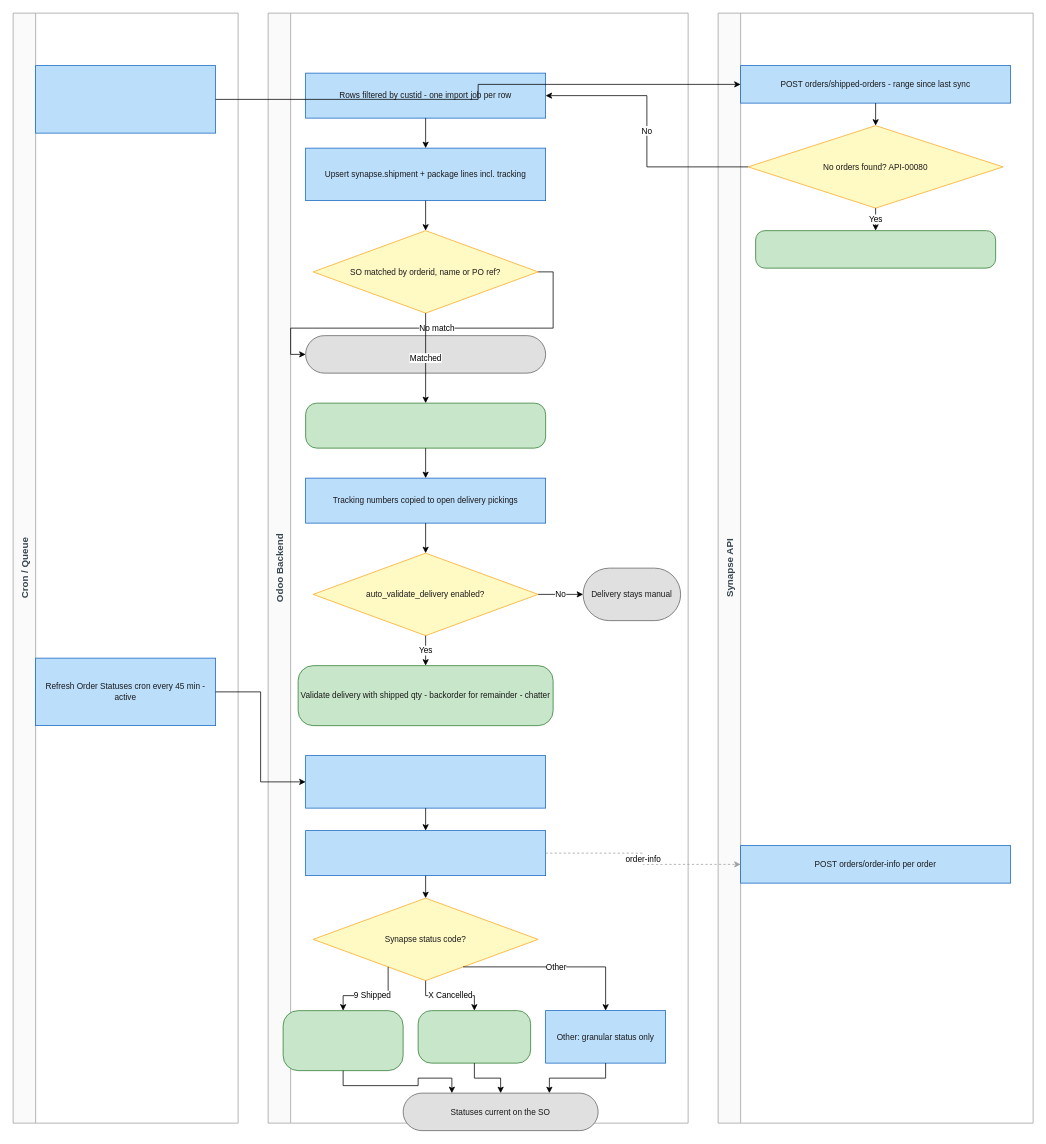
The diagram is 1046 pixels wide and 1144 high, and some of its shapes have lost their labels. The centre of each missing label's shape, as x and y in pixels:
"9: shipped + date, auto-validate check" goes at (342,1040).
"Pull Shipments cron every 4h - ships disabled - or manual Pull button" goes at (125,99).
"refresh_order_status: order-info per order" goes at (425,853).
"Shipment stored, not linked to any SO" goes at (425,354).
"SO status=shipped - stamp shipped date once" goes at (425,425).
"SOs picked: sent, not shipped, confirmed, no pending export job" goes at (425,781).
"Treated as empty result - sync date still updated" goes at (875,249).
"X: cancelled" goes at (474,1036).
